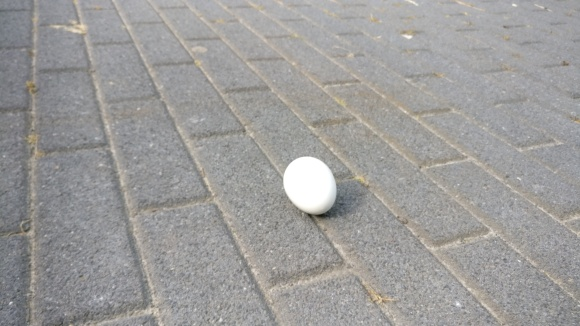egg: (283, 156, 336, 217)
